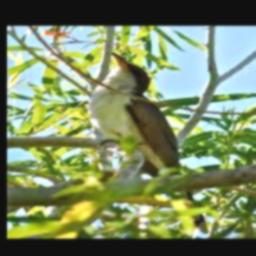Cuckoo: (89, 52, 210, 234)
